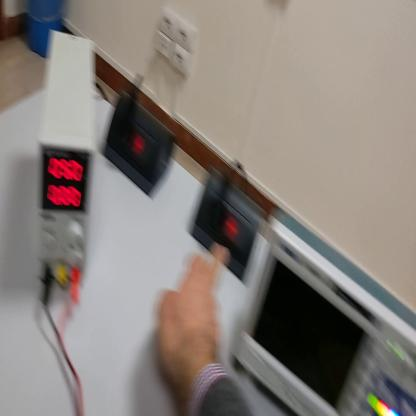hand: (157, 241, 229, 396)
oscilloscope: (227, 209, 416, 415)
power supply: (38, 28, 99, 303)
socket: (193, 174, 271, 293), (103, 87, 179, 197)
